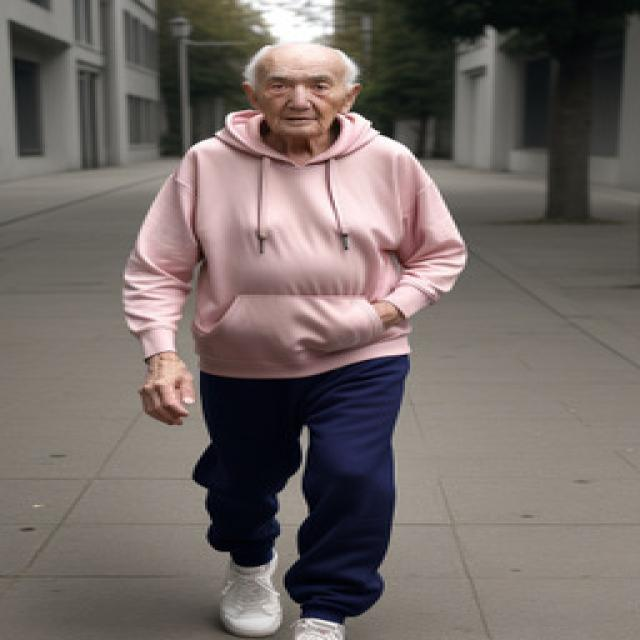Ai human 2: (116, 33, 483, 640)
